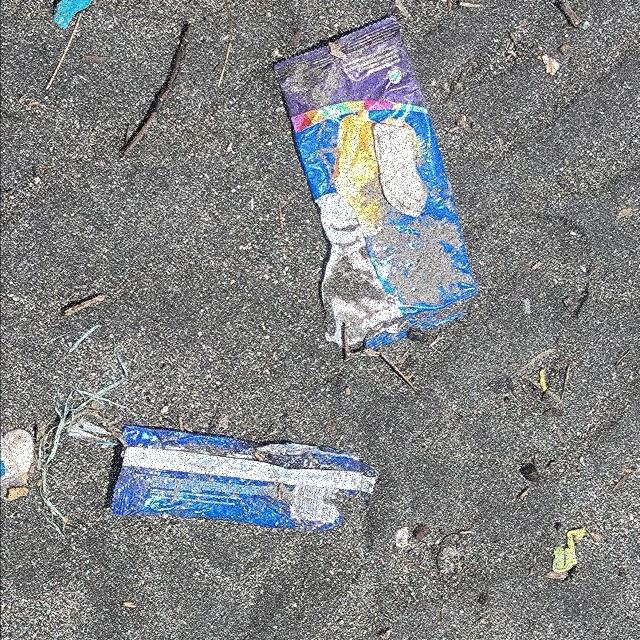plastic_waste: (271, 13, 480, 365), (109, 424, 382, 534)
